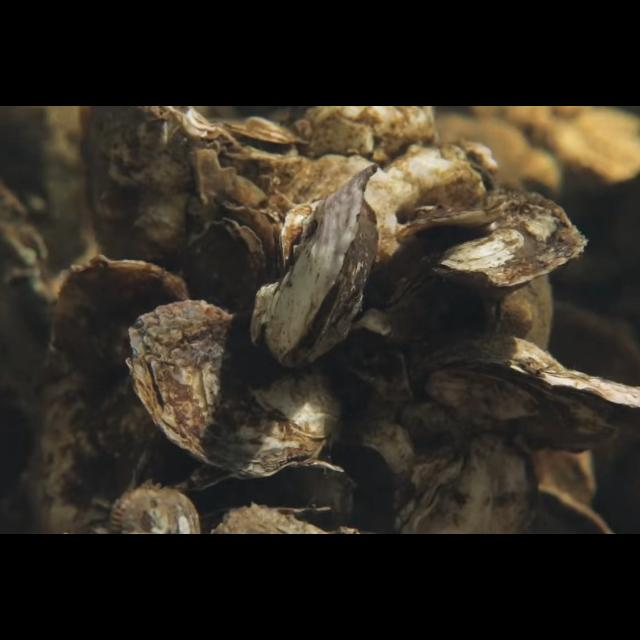Oyster-Closed: (40, 253, 192, 534), (123, 298, 344, 480), (378, 192, 588, 331), (247, 164, 381, 370), (84, 107, 216, 275), (387, 431, 539, 535), (186, 218, 266, 312)
Oyster-Open: (408, 337, 640, 458), (178, 459, 344, 518), (212, 115, 308, 167)
